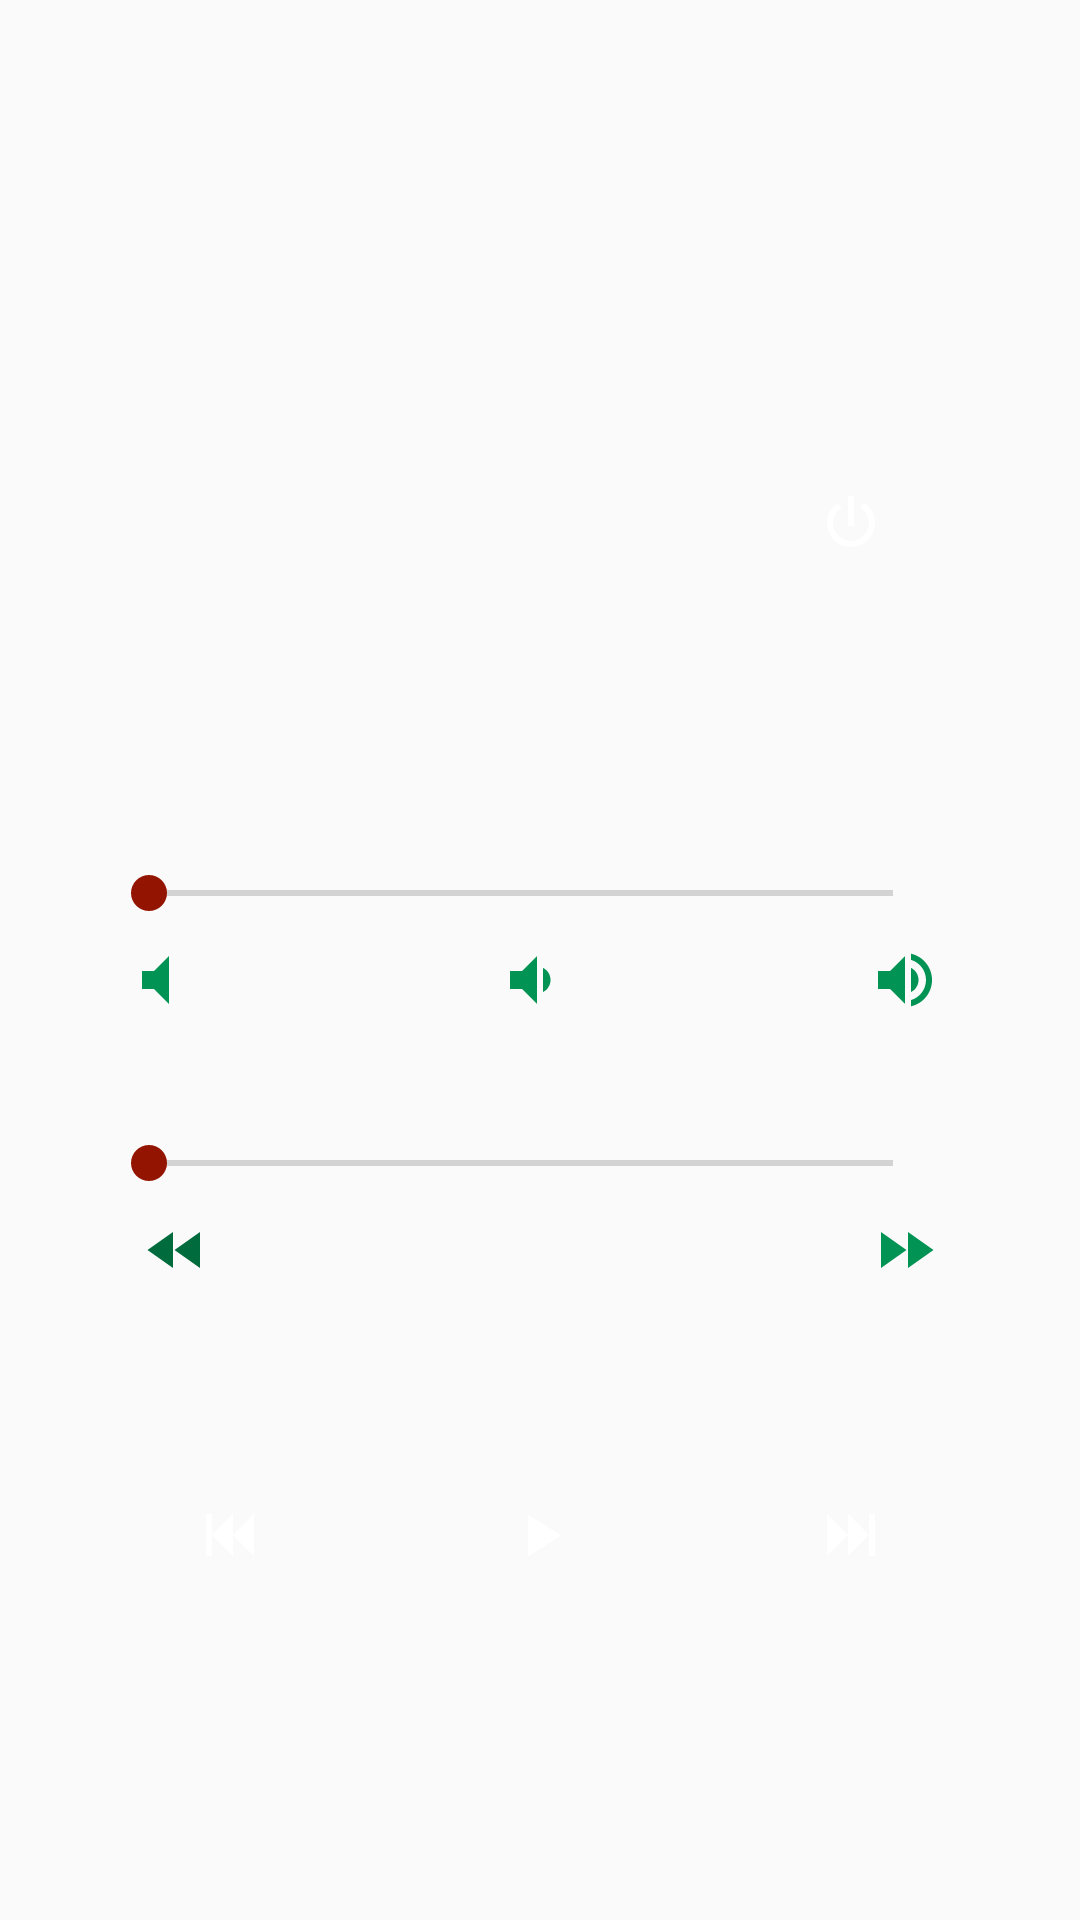

Where to tap for icons on this 1080px x 1920px app screen, as [x,y]:
fast forward: [907,1250]
rewind: [174,1250]
volume high: [905,980]
volume low: [155,980]
volume medium: [530,980]
